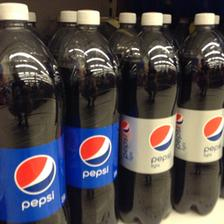Soda: (0, 0, 66, 224), (57, 7, 121, 223), (118, 11, 176, 223), (174, 12, 222, 216)
